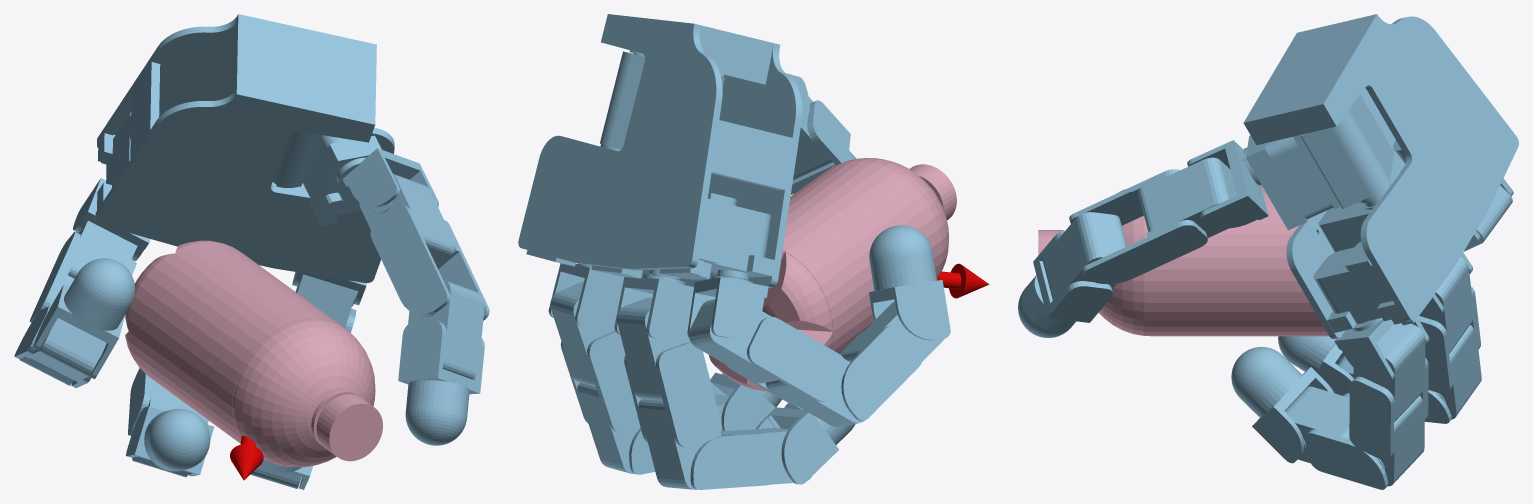
The picture shows the model from 3 angles, left to right: view 1: azimuth 30°, elevation 25°; view 2: azimuth 150°, elevation 25°; view 3: azimuth 270°, elevation 25°; orthographic projection. The views are drawn at different scales.
Visible parts, largest first — view 1: world, water_bottle.stl; view 2: world, water_bottle.stl; view 3: world, water_bottle.stl.
Part boxes in pixels (x1,y1,x2,y2): world: (14, 14, 489, 489); water_bottle.stl: (125, 240, 382, 467); world: (518, 14, 989, 489); water_bottle.stl: (709, 158, 956, 391); world: (1018, 14, 1518, 489); water_bottle.stl: (1038, 185, 1328, 336).
Bounding box in the file's own units: 0.1704 × 0.1919 × 0.1986.
